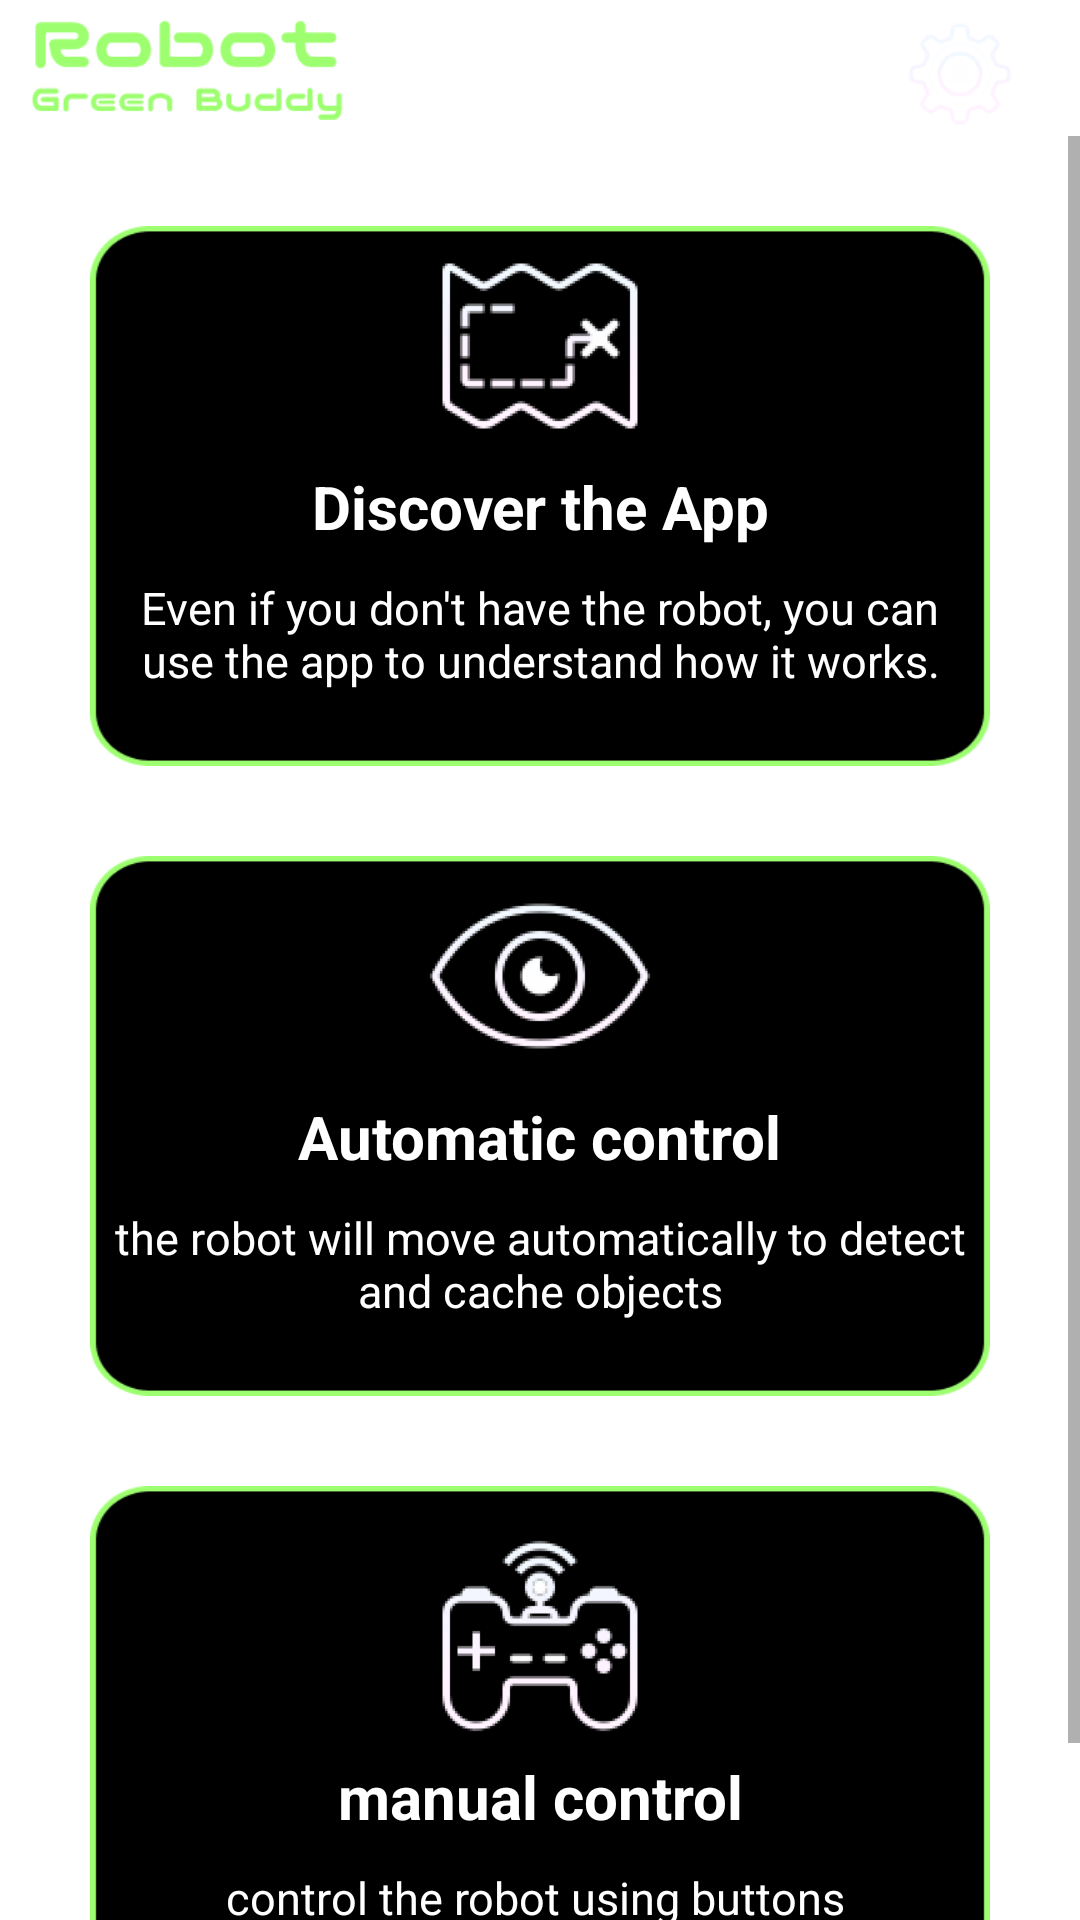

Icon bounding boxes for this 1080x1920 phone screenshot, format detection(x1, y1, x2, y2):
eye: detection(430, 903, 650, 1049)
